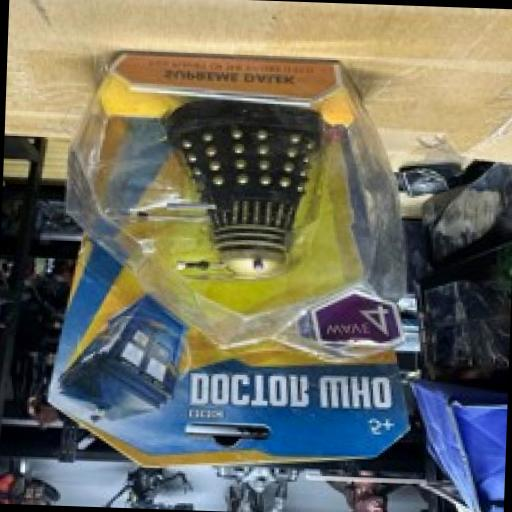dalek: (132, 93, 330, 283)
